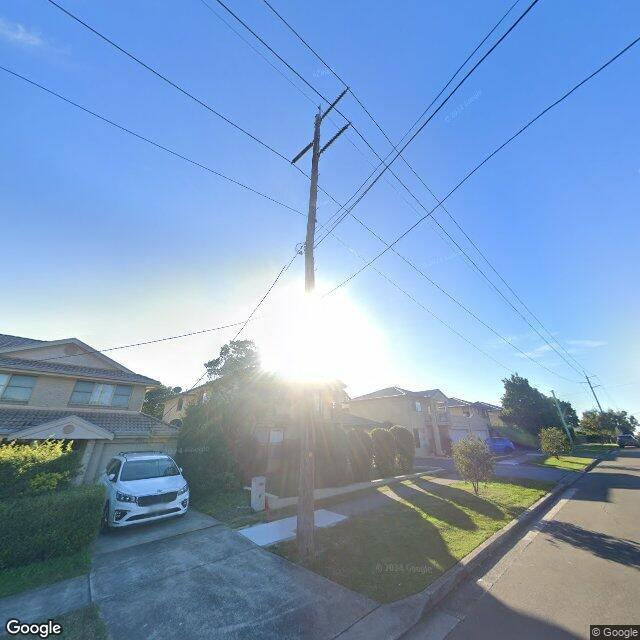HV-transmission: (292, 85, 352, 165), (576, 375, 600, 389)
timber-pole: (297, 112, 322, 563), (550, 389, 574, 444), (585, 374, 602, 412)
